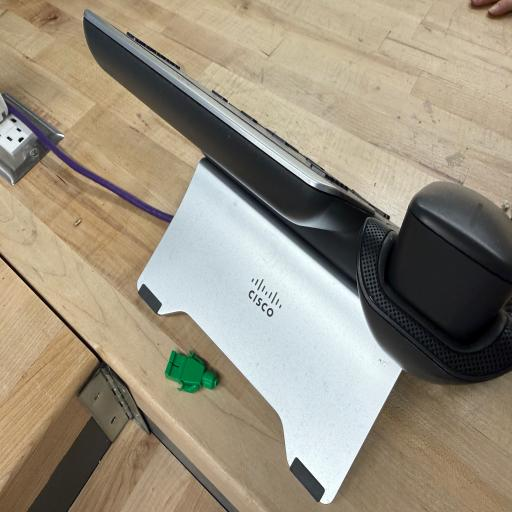Lego-Dude: (165, 350, 218, 393)
